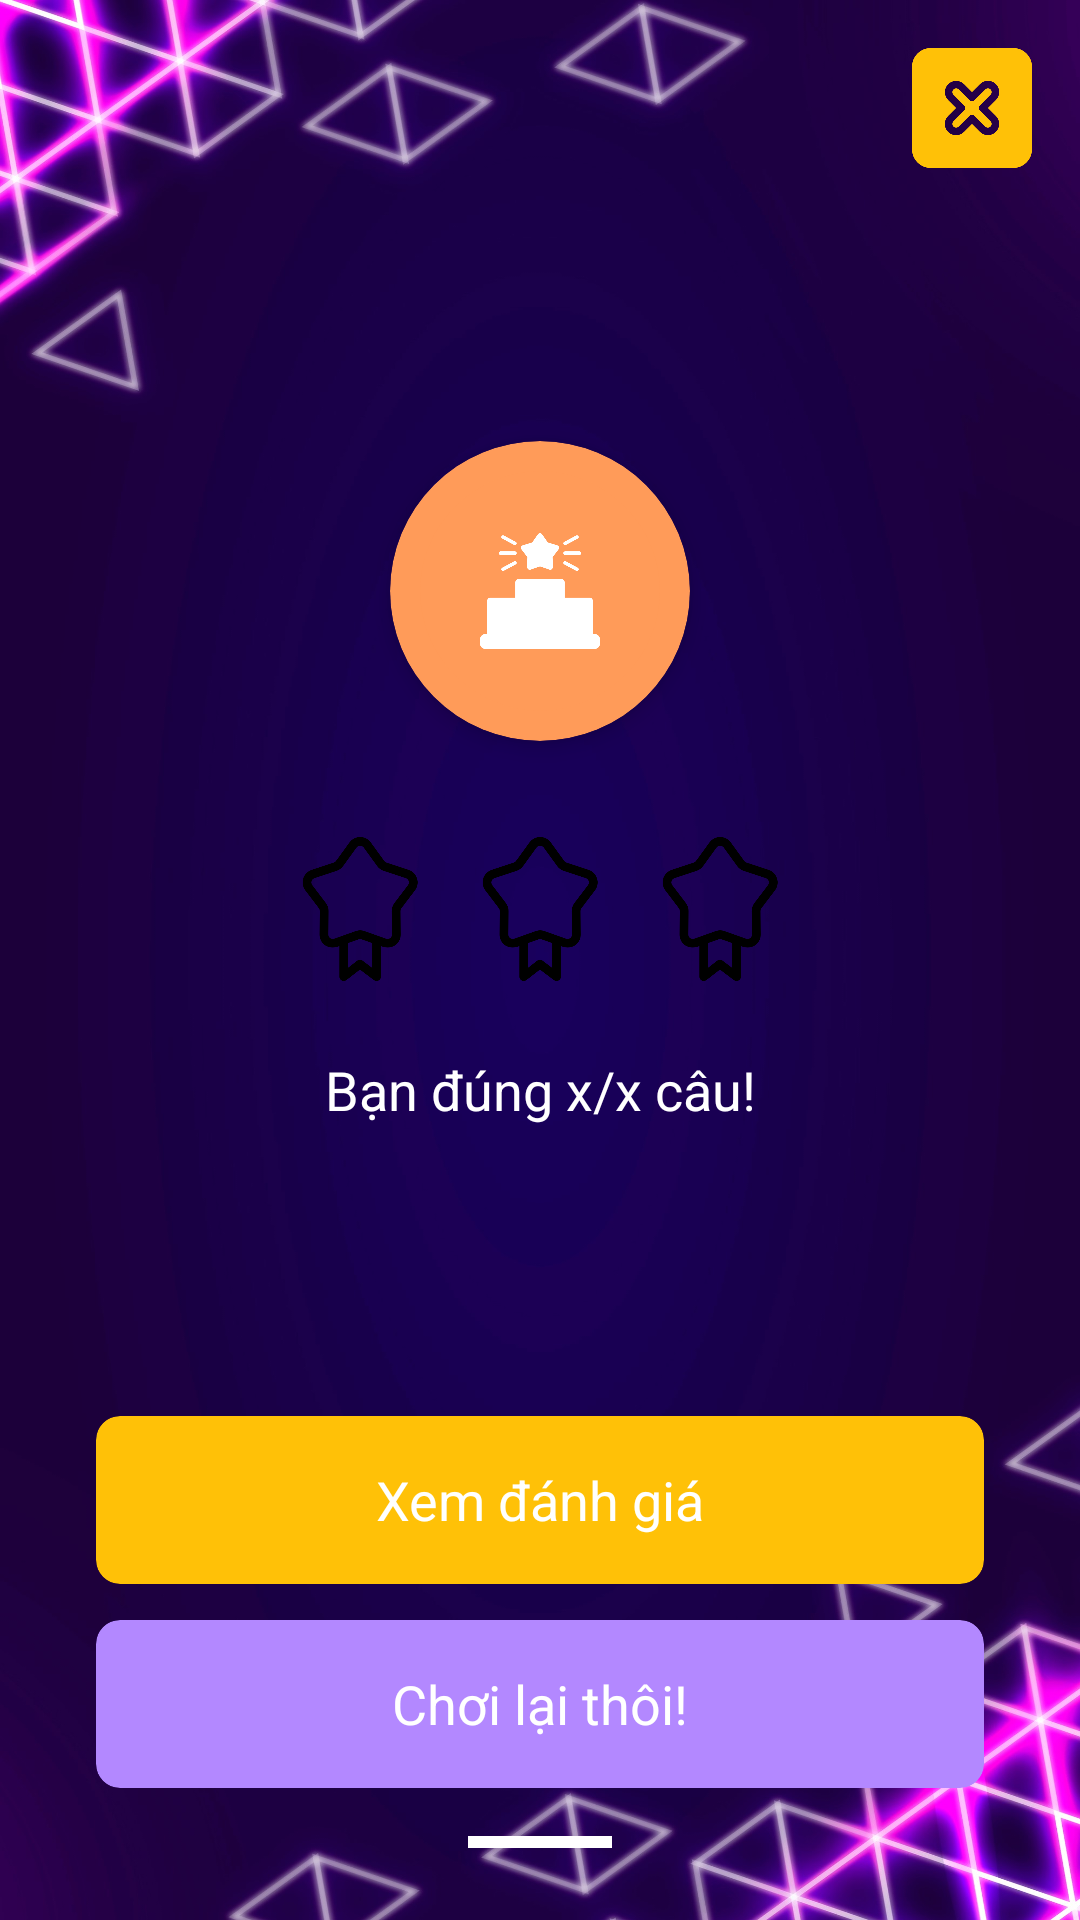

Icon click points for this 1080x1920 phone screenshot, format (x=x, y=y):
close: (x=972, y=108)
podium: (x=540, y=591)
Star 1: (x=360, y=909)
Star 2: (x=540, y=909)
Star 3: (x=720, y=909)
